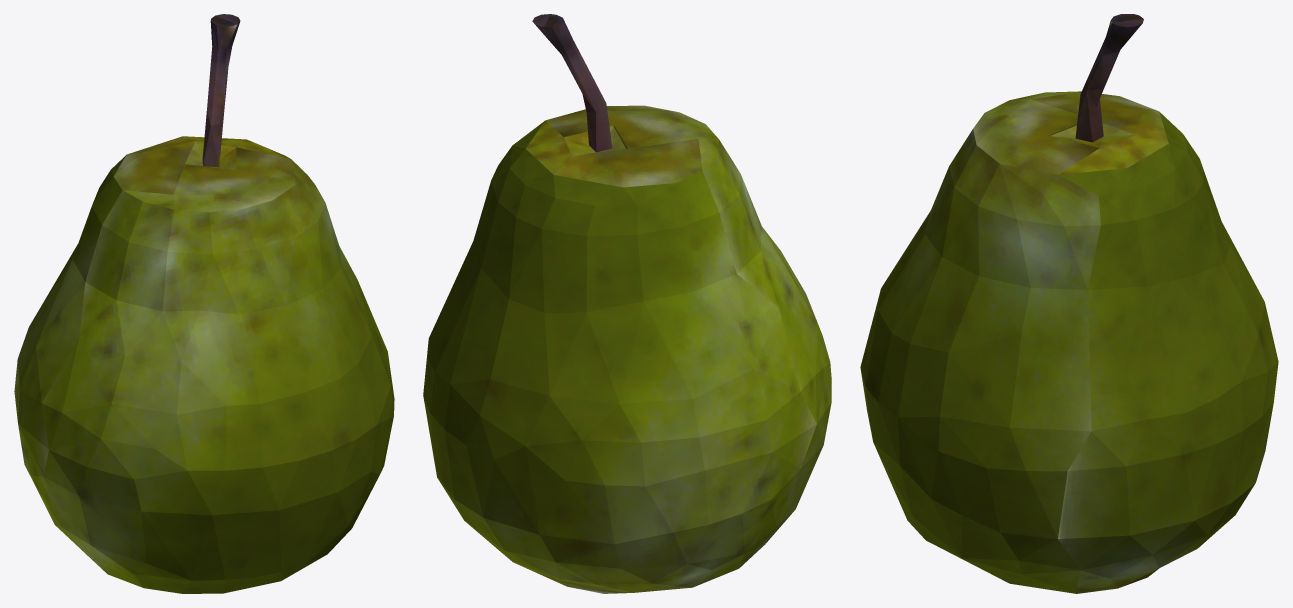
Rendered from pear.dae.
3 renders of one model, left to right at view 1: azimuth 30°, elevation 25°; view 2: azimuth 150°, elevation 25°; view 3: azimuth 270°, elevation 25°, orthographic. The views are drawn at different scales.
Visible parts, largest first — view 1: Pear; view 2: Pear; view 3: Pear.
Boxes of the visible parts, x1,y1,x2,y2 form: Pear: (14,14,394,593); Pear: (423,14,831,593); Pear: (860,14,1278,593).
Bounding box in the file's own units: 0.0842 × 0.0838 × 0.1249.
1 material, 1 textured.
